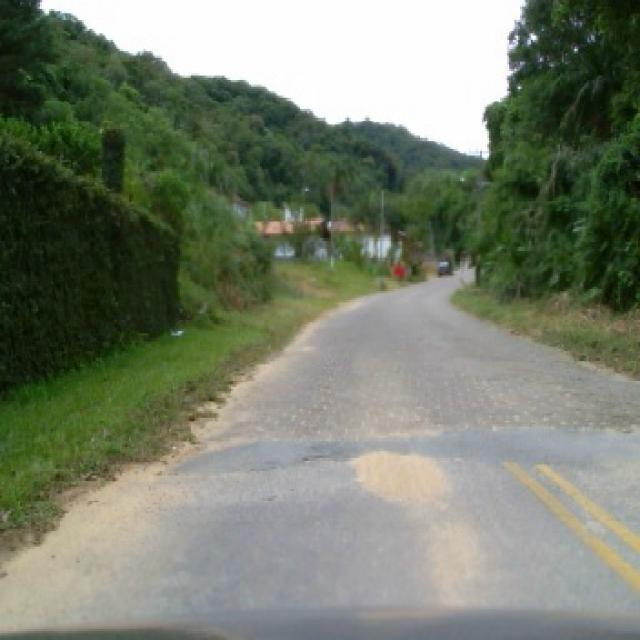Poth-hole: (302, 452, 334, 464)
